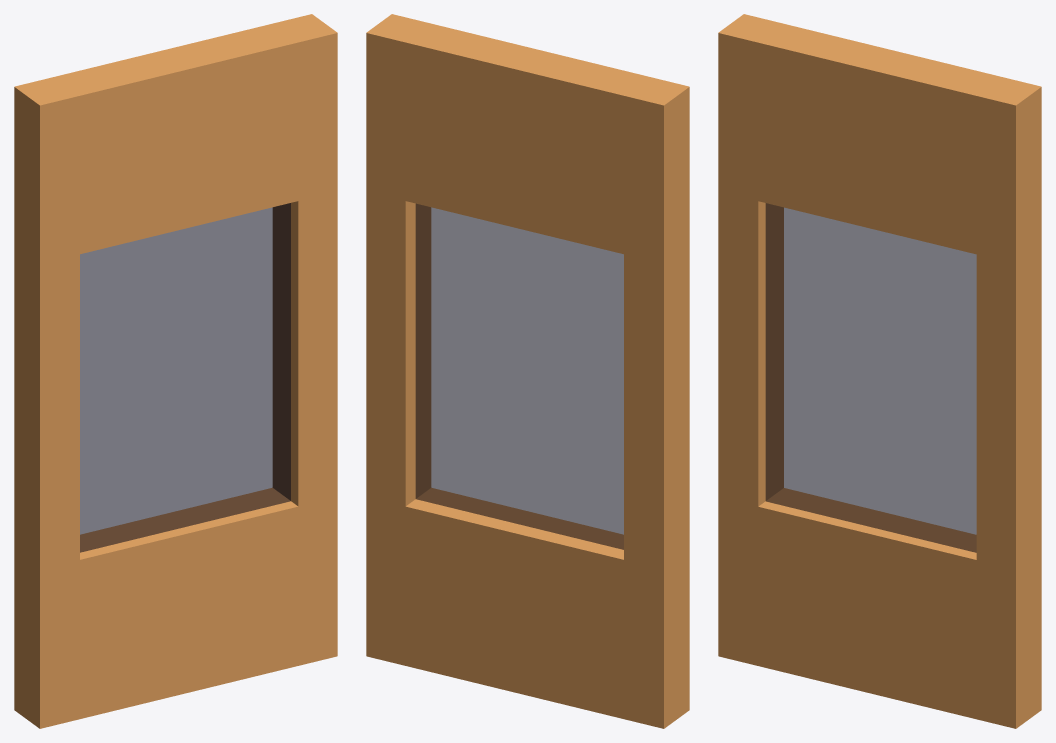
File: YellowWindow.glb
3 renders of one model, left to right at view 1: azimuth 30°, elevation 25°; view 2: azimuth 150°, elevation 25°; view 3: azimuth 330°, elevation 25°, orthographic.
Parts seen in each view (by area): view 1: wall_yellow_window; view 2: wall_yellow_window; view 3: wall_yellow_window.
Part boxes in pixels (x1=…): wall_yellow_window: x1=14, y1=14, x2=337, y2=728; wall_yellow_window: x1=366, y1=14, x2=689, y2=728; wall_yellow_window: x1=718, y1=14, x2=1041, y2=728.
Size of what is drawn, in the model's own units: 2 by 4 by 0.3.
2 materials, 2 textured.
